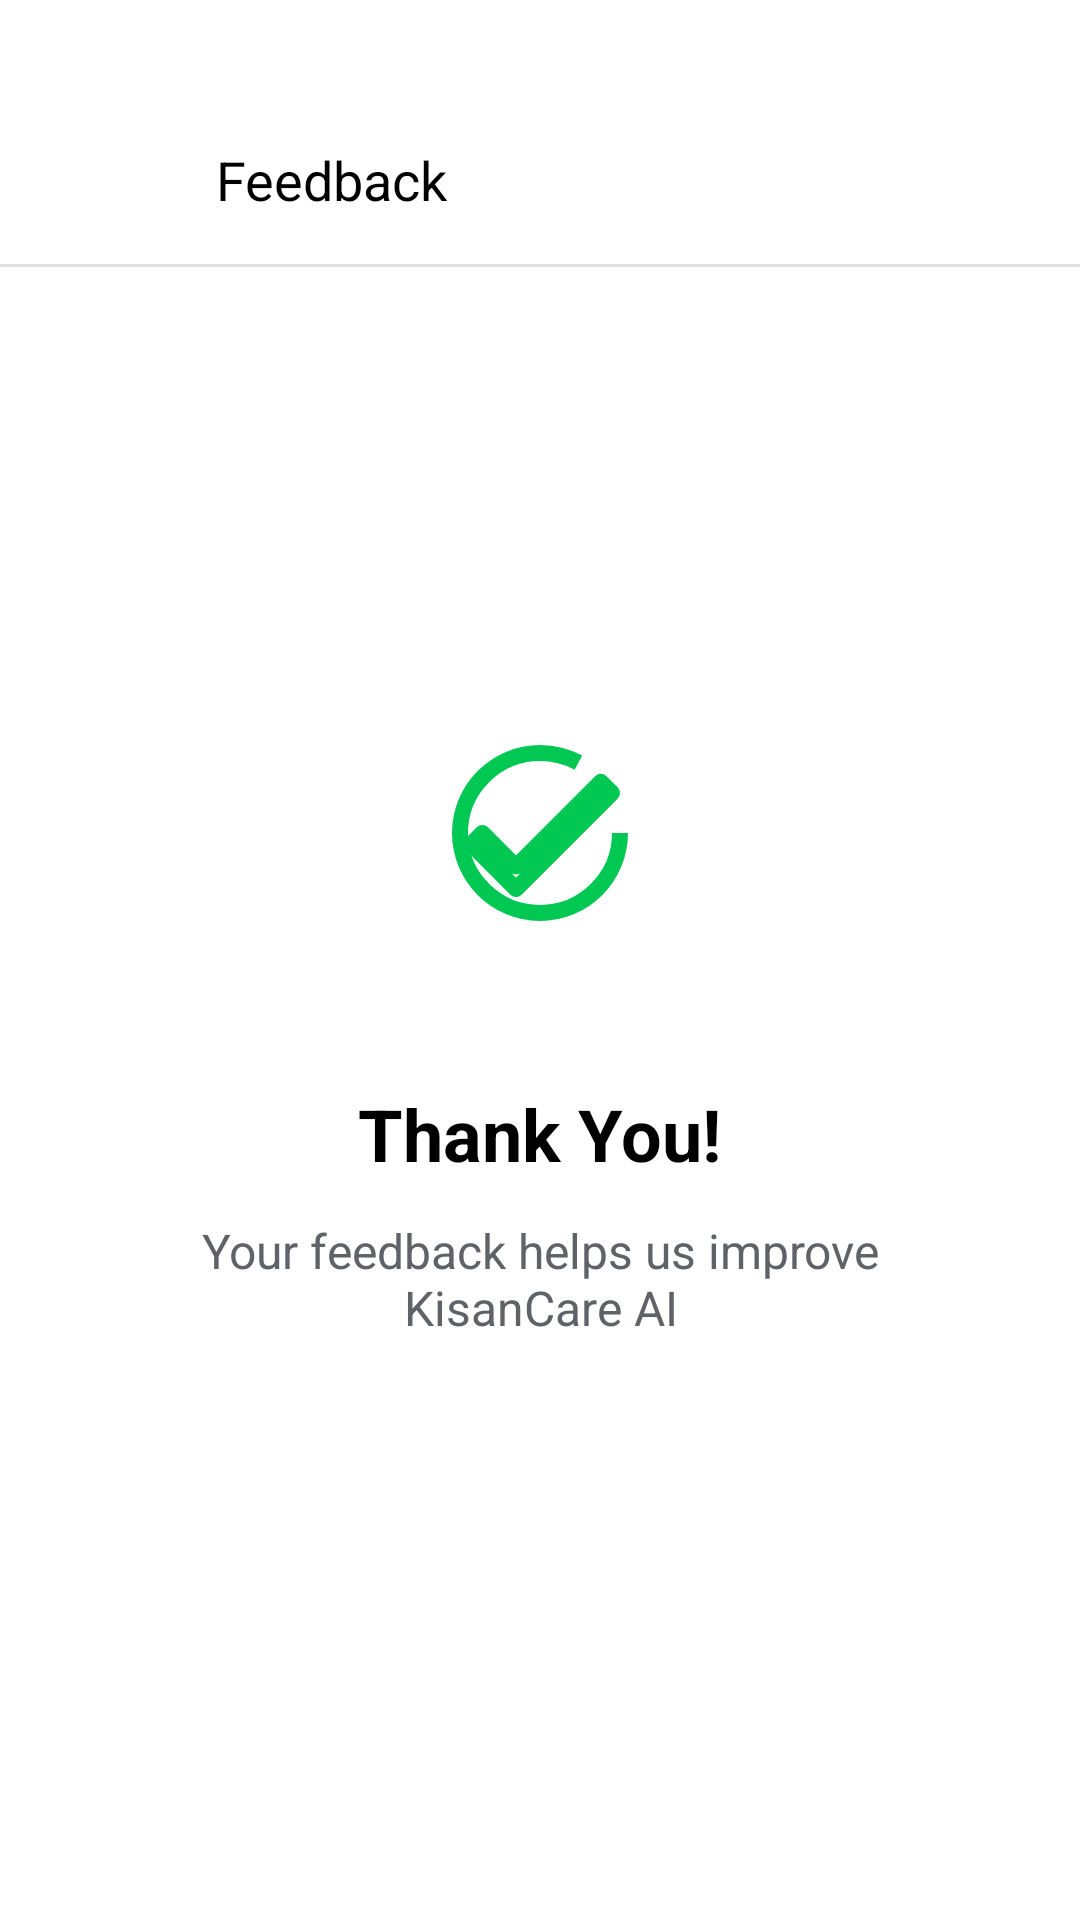

Icon bounding boxes for this 1080px x 1920px phone screenshot, format (x1, y1, x2, y2):
feedback check: (452, 745, 628, 921)
